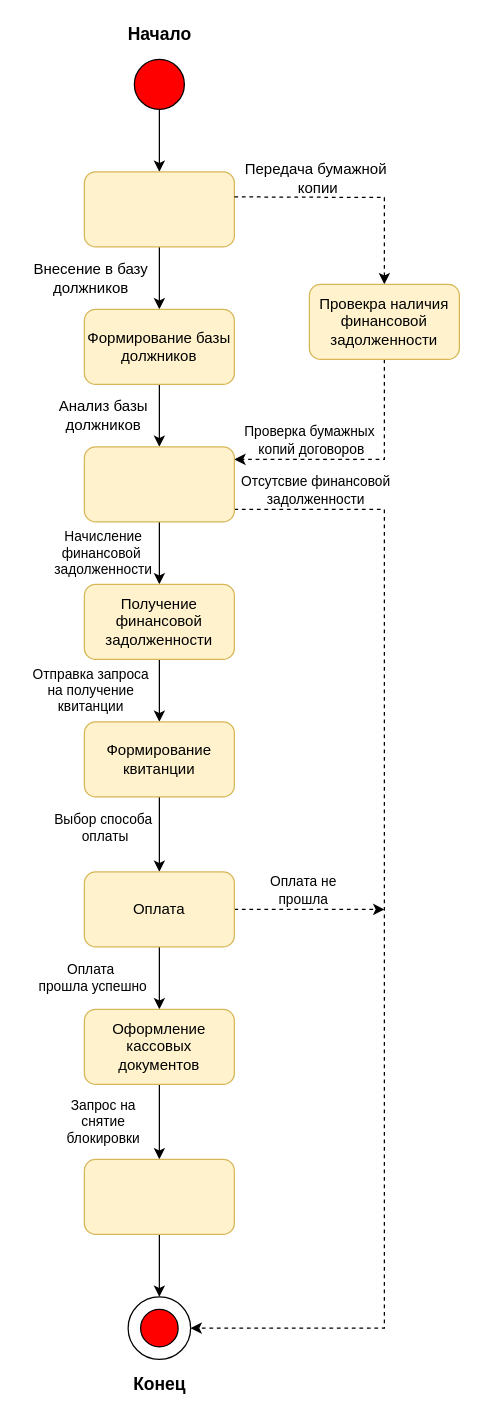
The diagram is 481 pixels wide and 1418 high, and some of its shapes have lost their labels. The box of each missing label's shape, as (x1, y1, x2, y2) in pixels:
Проверка наличия задолженности: (83, 446, 234, 522)
Проверка электронной копии договора: (83, 171, 234, 247)
Снятие блокировки с личного кабинета: (83, 1158, 234, 1234)
